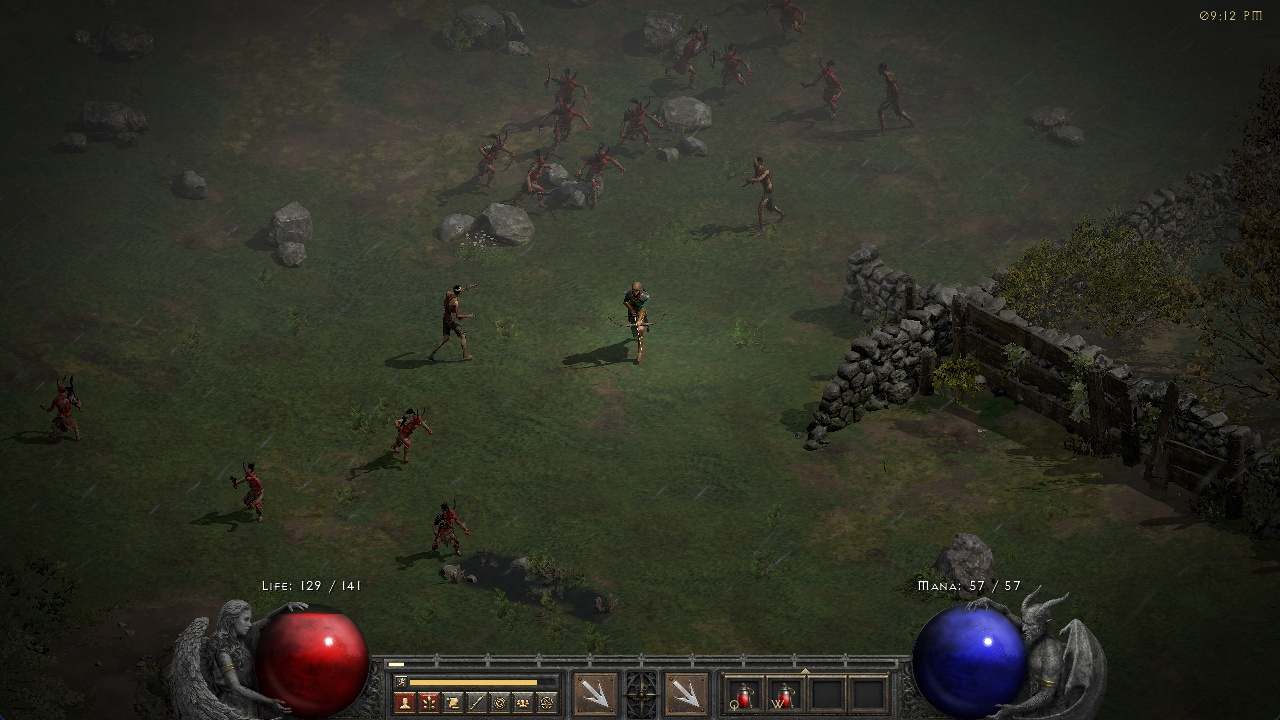fallen: (466, 132, 525, 191), (42, 372, 85, 449), (666, 22, 713, 87), (225, 462, 273, 524), (393, 401, 436, 465), (802, 58, 845, 120), (427, 494, 468, 557), (582, 145, 625, 205), (615, 99, 663, 144), (539, 104, 592, 141), (711, 48, 751, 95), (523, 148, 556, 204), (768, 1, 812, 42), (534, 66, 582, 94)
